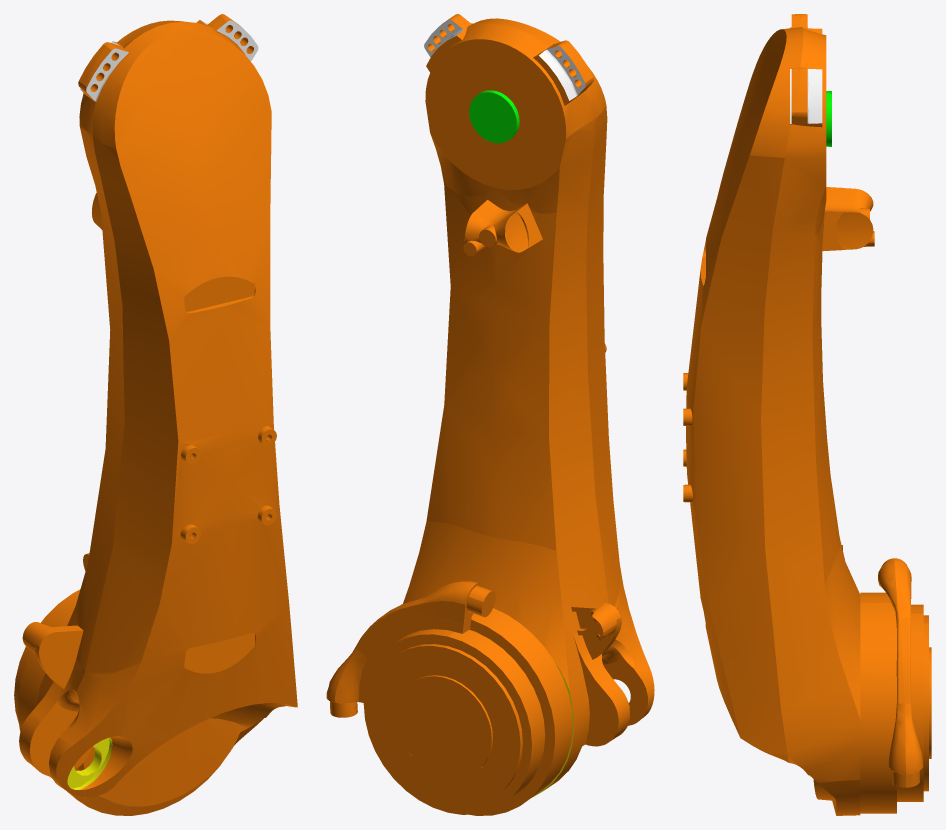
3 renders of one model, left to right at view 1: azimuth 30°, elevation 25°; view 2: azimuth 150°, elevation 25°; view 3: azimuth 270°, elevation 25°, orthographic. The views are drawn at different scales.
Visible parts, largest first — view 1: link_2; view 2: link_2; view 3: link_2.
Boxes of the visible parts, left/top/right/bottom form: link_2: left=14, top=14, right=297, bottom=815; link_2: left=326, top=14, right=654, bottom=815; link_2: left=683, top=14, right=931, bottom=815.
Bounding box in the file's own units: 0.533 × 0.443 × 1.51.
